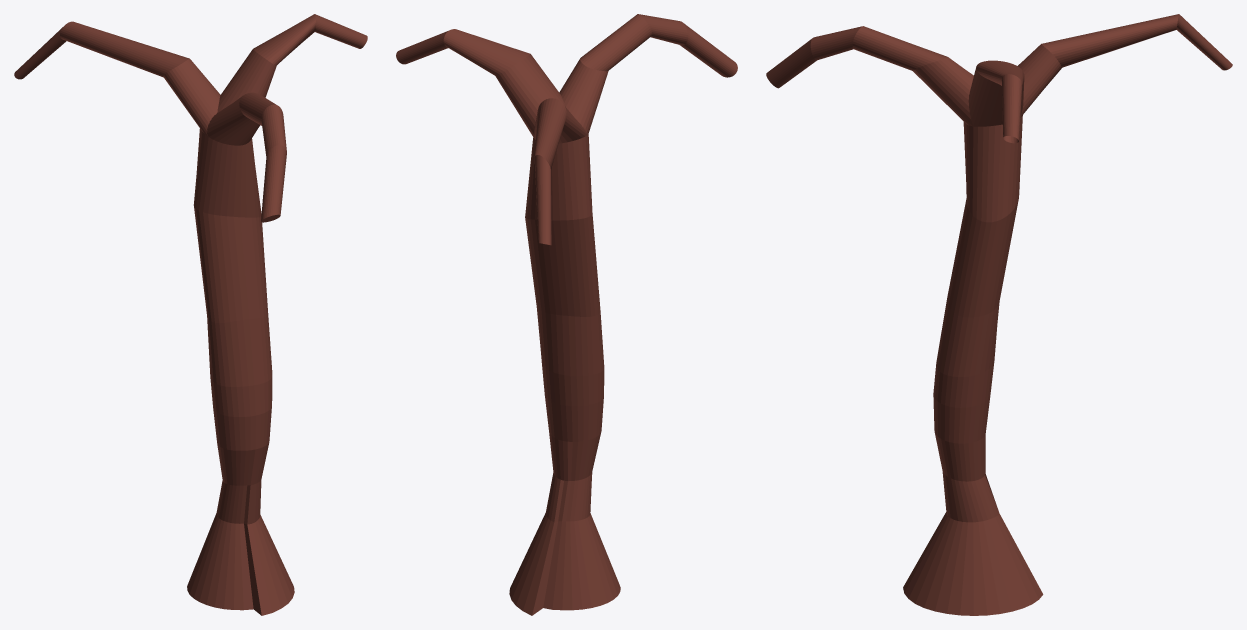
Rendered from ThreeCrimson3.fbx.
3 views of the same model, side by side, from view 1: azimuth 30°, elevation 25°; view 2: azimuth 150°, elevation 25°; view 3: azimuth 270°, elevation 25° (orthographic). The views are drawn at different scales.
Parts seen in each view (by area): view 1: ThreeCrimson3; view 2: ThreeCrimson3; view 3: ThreeCrimson3.
Part boxes in pixels (bbox=[...]): ThreeCrimson3: bbox=[14, 14, 367, 615]; ThreeCrimson3: bbox=[396, 14, 737, 615]; ThreeCrimson3: bbox=[766, 14, 1232, 615].
Bounding box in the file's own units: 709 × 1454 × 1081.
